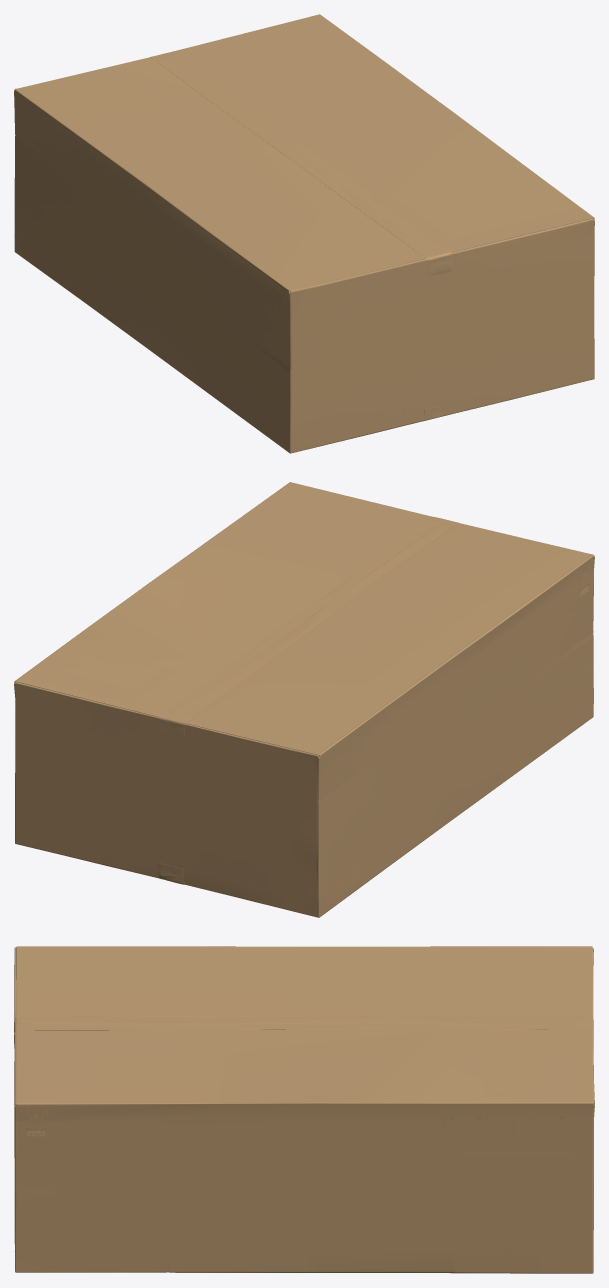
The model's file is box_corrugated_brown_b17.glb.
The picture shows the model from 3 angles, top to bottom: view 1: azimuth 30°, elevation 25°; view 2: azimuth 150°, elevation 25°; view 3: azimuth 270°, elevation 25°; orthographic projection. The views are drawn at different scales.
Bounding box in the file's own units: 0.299 × 0.1531 × 0.4674.
